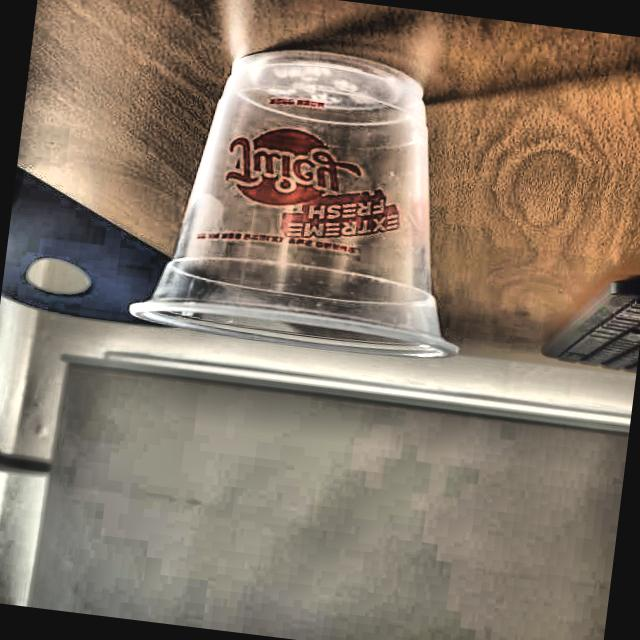plastic cup: (121, 32, 498, 370)
